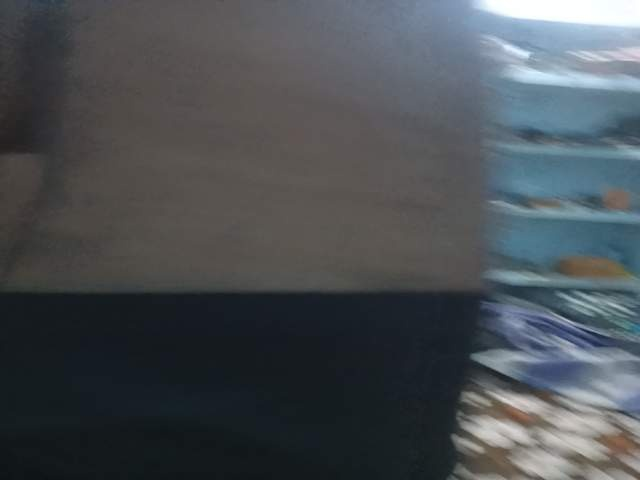pothole: (248, 386, 640, 480)
